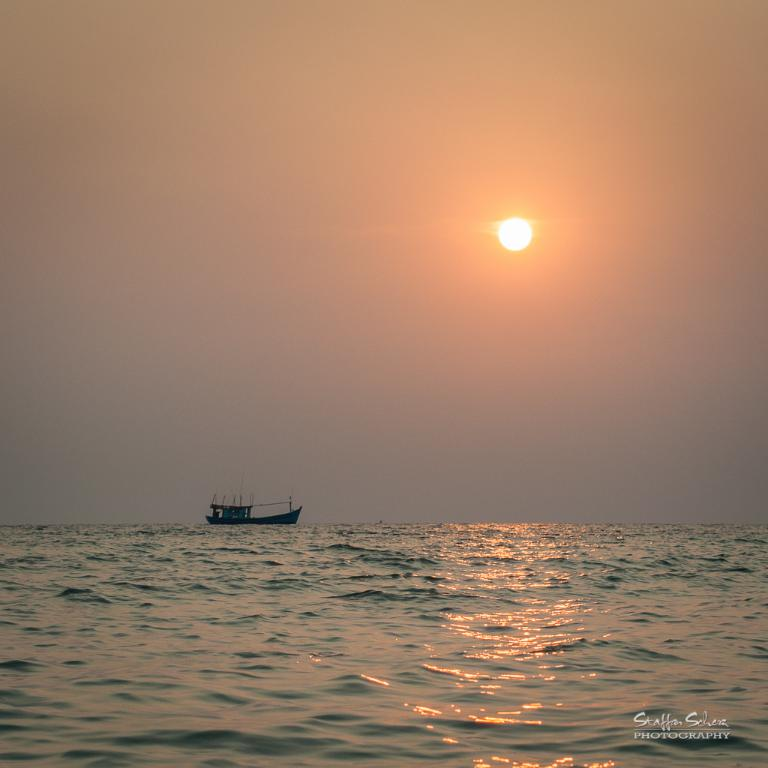boat: (187, 478, 326, 540)
